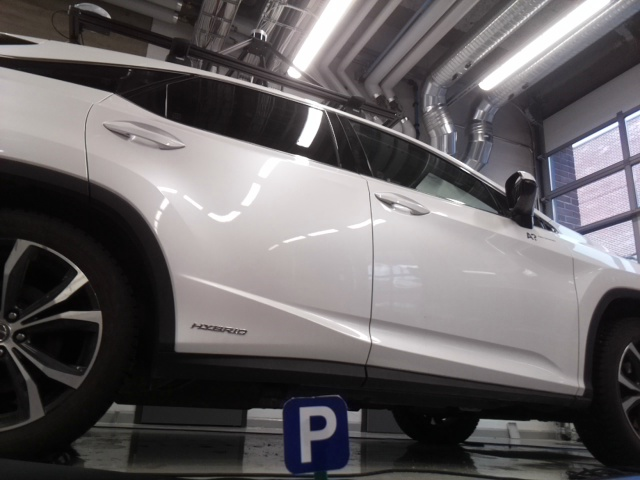Parking: (278, 394, 348, 473)
